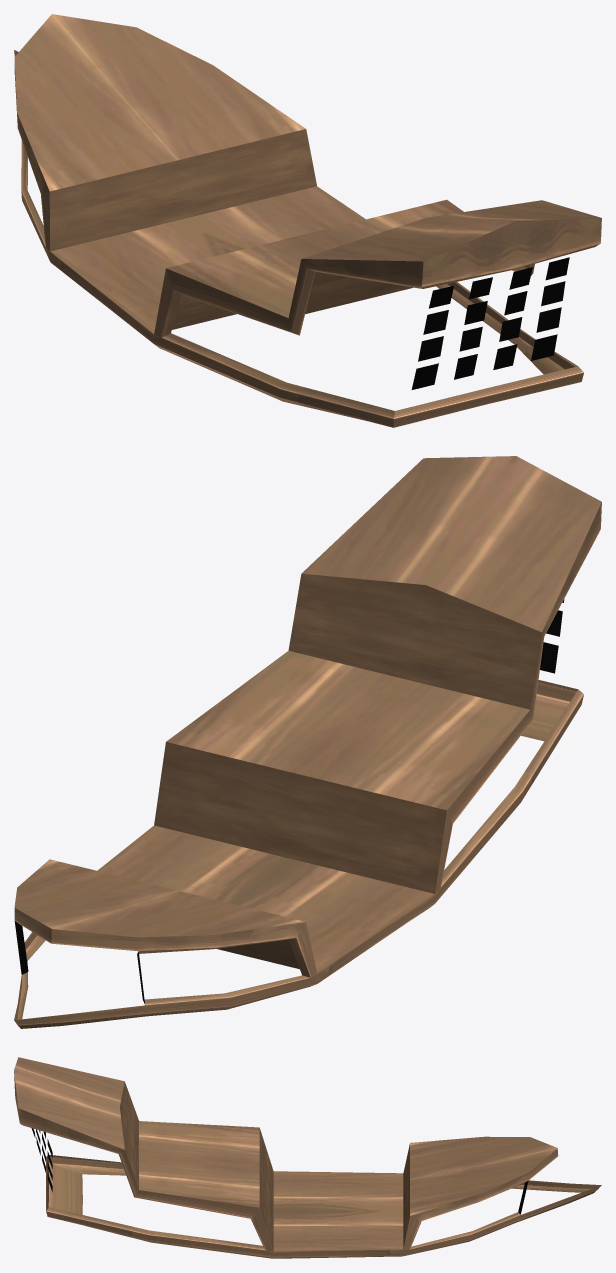
The model's file is A_HA_GEN_Ship_Floor_01.fbx.
3 renders of one model, top to bottom at view 1: azimuth 30°, elevation 25°; view 2: azimuth 150°, elevation 25°; view 3: azimuth 270°, elevation 25°, orthographic. The views are drawn at different scales.
Parts seen in each view (by area): view 1: A_HA_Gen_Ship_Floor_01; view 2: A_HA_Gen_Ship_Floor_01; view 3: A_HA_Gen_Ship_Floor_01.
Boxes of the visible parts, x1=… form: A_HA_Gen_Ship_Floor_01: x1=14, y1=14, x2=601, y2=427; A_HA_Gen_Ship_Floor_01: x1=14, y1=456, x2=601, y2=1028; A_HA_Gen_Ship_Floor_01: x1=14, y1=1057, x2=601, y2=1258.
Size of the model in its own units: 995 by 870 by 3081.
Materials: 1 (1 with a texture image).
